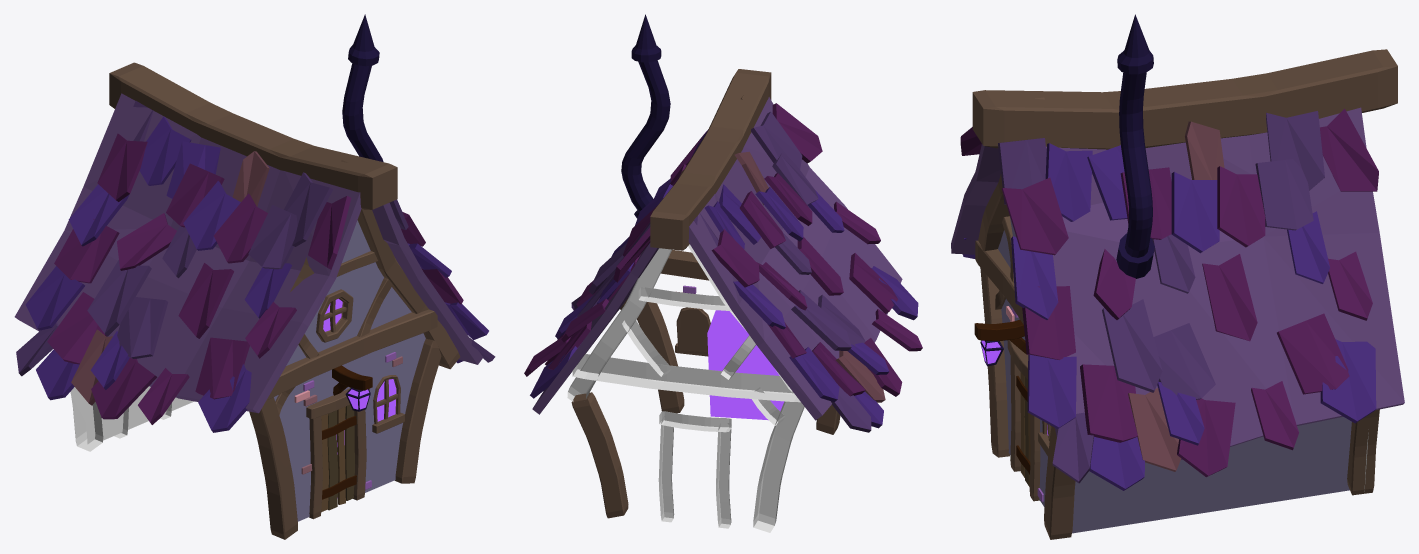
Rendered from bajticaOBE 1.glb.
3 views of the same model, side by side, from view 1: azimuth 30°, elevation 25°; view 2: azimuth 150°, elevation 25°; view 3: azimuth 270°, elevation 25° (orthographic). The views are drawn at different scales.
Parts seen in each view (by area): view 1: Cube.047; view 2: Cube.047; view 3: Cube.047.
Boxes of the visible parts, box(x1,y1,x2,y2) form: Cube.047: box(14, 14, 495, 539); Cube.047: box(524, 14, 922, 532); Cube.047: box(951, 14, 1404, 539).
Size of the model in its own units: 6.94 by 7.52 by 5.95.
